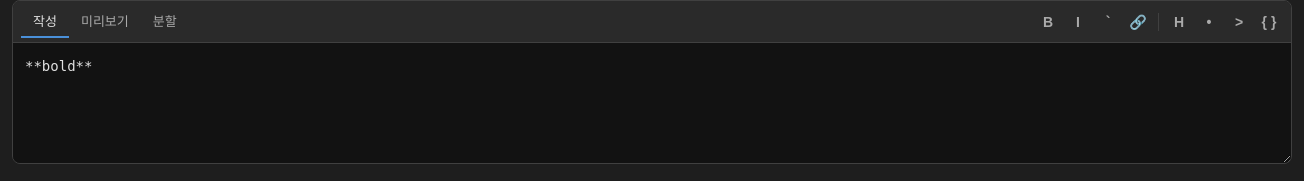
it: MarkdownEditor › switches to preview mode when preview tab is clicked
Step 1. Click the tab "미리보기" → (105, 22), box [69,5,141,38]
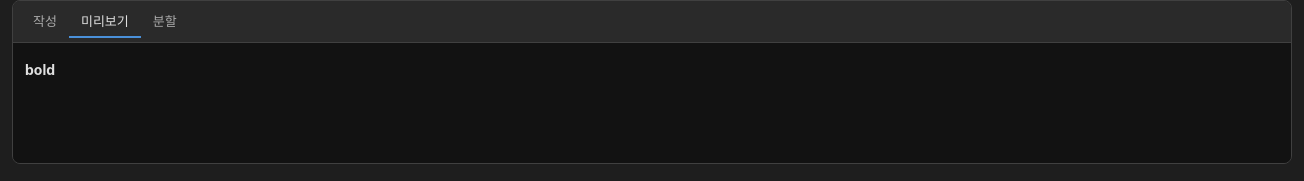
Now the element named "마크다운 미리보기" is shown
